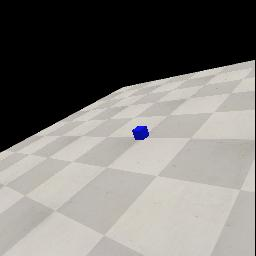box: (132, 126, 149, 140)
